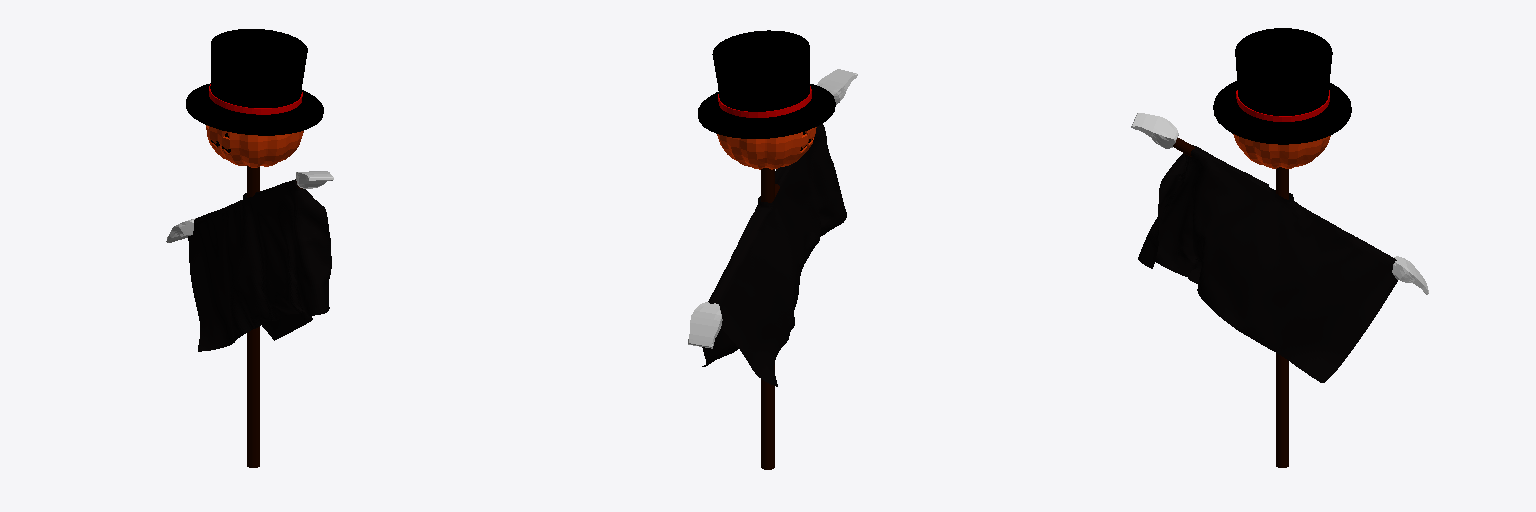
Rendered from scarecrow_obj.mtl.obj.
The picture shows the model from 3 angles: view 1: azimuth 30°, elevation 25°; view 2: azimuth 150°, elevation 25°; view 3: azimuth 270°, elevation 25°; orthographic projection.
Visible parts, largest first — view 1: Plane.001_Plane.001, Hat.001_Cylinder.008, head.001_Sphere.002, stick_body.001_Cylinder.007, hand1.001_Cube.006; view 2: Plane.001_Plane.001, Hat.001_Cylinder.008, head.001_Sphere.002, stick_body.001_Cylinder.007, hand2.001_Cube.005, hand1.001_Cube.006; view 3: Plane.001_Plane.001, Hat.001_Cylinder.008, head.001_Sphere.002, stick_body.001_Cylinder.007, hand1.001_Cube.006, hand2.001_Cube.005.
Part boxes in pixels (bbox=[...]): Plane.001_Plane.001: bbox=[188, 179, 331, 351]; Hat.001_Cylinder.008: bbox=[186, 29, 323, 135]; head.001_Sphere.002: bbox=[206, 125, 303, 167]; stick_body.001_Cylinder.007: bbox=[247, 166, 259, 467]; hand1.001_Cube.006: bbox=[296, 171, 333, 188]; Plane.001_Plane.001: bbox=[702, 123, 846, 386]; Hat.001_Cylinder.008: bbox=[698, 30, 835, 138]; head.001_Sphere.002: bbox=[717, 127, 816, 169]; stick_body.001_Cylinder.007: bbox=[761, 168, 774, 469]; hand2.001_Cube.005: bbox=[688, 302, 722, 348]; hand1.001_Cube.006: bbox=[817, 69, 857, 104]; Plane.001_Plane.001: bbox=[1138, 145, 1397, 382]; Hat.001_Cylinder.008: bbox=[1213, 28, 1351, 144]; head.001_Sphere.002: bbox=[1233, 134, 1330, 168]; stick_body.001_Cylinder.007: bbox=[1276, 167, 1288, 467]; hand1.001_Cube.006: bbox=[1131, 113, 1178, 148]; hand2.001_Cube.005: bbox=[1392, 256, 1428, 294].
Size of the model in its own units: 2.34 by 7.84 by 5.04.